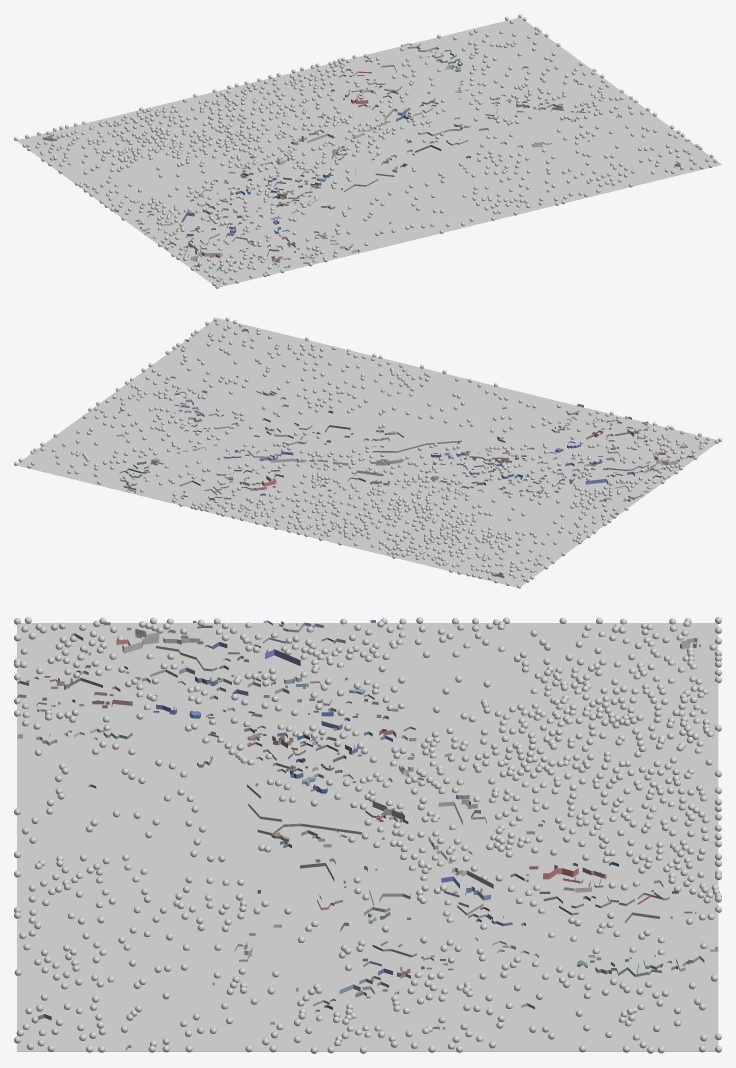
File: scene_test_fix_1d6da2.glb
The picture shows the model from 3 angles, top to bottom: view 1: azimuth 30°, elevation 25°; view 2: azimuth 150°, elevation 25°; view 3: azimuth 270°, elevation 25°; orthographic projection. The views are drawn at different scales.
Parts seen in each view (by area): view 1: Ground_Base; view 2: Ground_Base; view 3: Ground_Base.
Part boxes in pixels (<box>): Ground_Base: <box>17,17,721,287</box>; Ground_Base: <box>17,318,715,587</box>; Ground_Base: <box>17,623,718,1051</box>.
Size of the model in its own units: 1745 by 19.77 by 1210.
